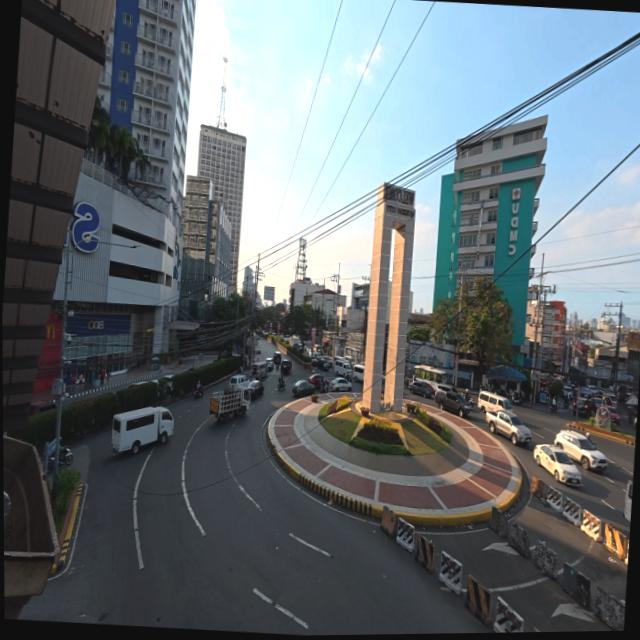car: (485, 409, 533, 447), (431, 383, 470, 415), (403, 376, 435, 397)
vans: (109, 399, 174, 456)
